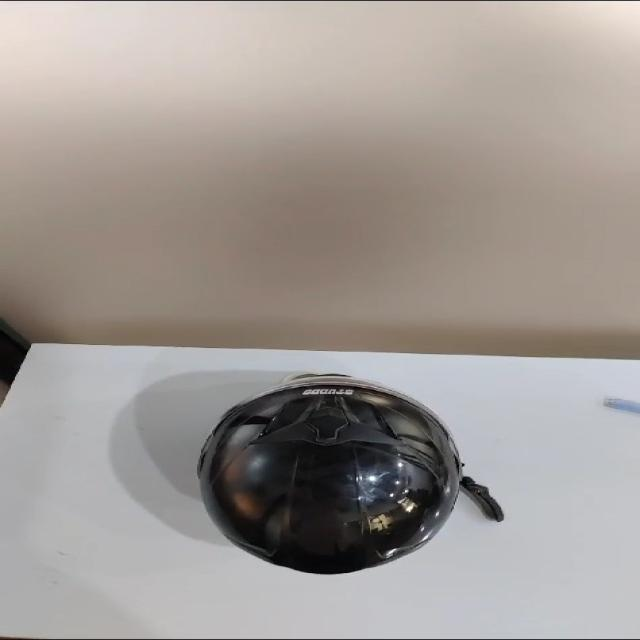helmet: (195, 368, 478, 582)
